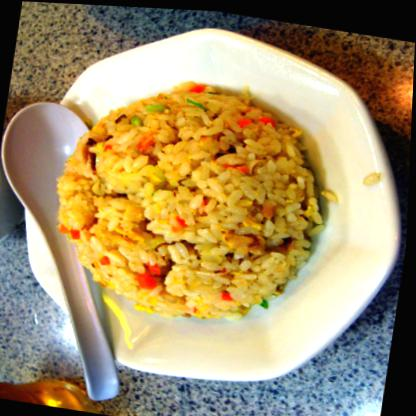fried rice: (43, 67, 320, 332)
